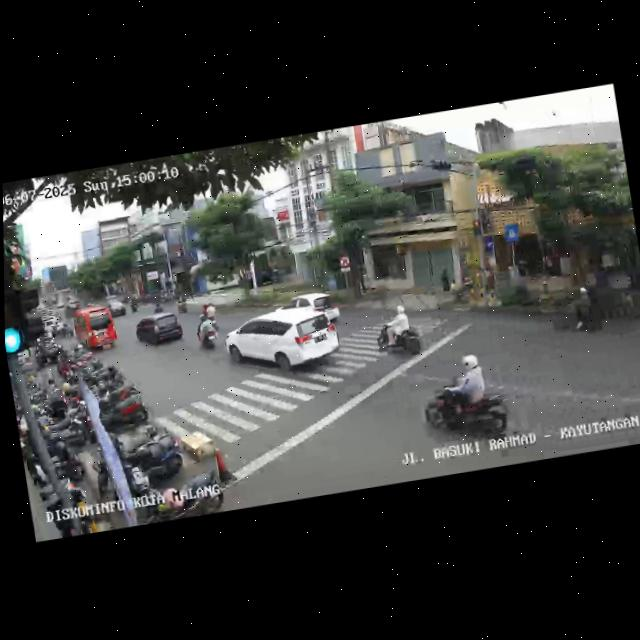car: (221, 301, 342, 386), (271, 289, 344, 335), (71, 302, 120, 356), (132, 310, 185, 353)
motorcycle: (419, 349, 512, 448), (559, 269, 627, 340), (372, 300, 425, 362), (194, 308, 222, 354), (200, 302, 221, 335)
